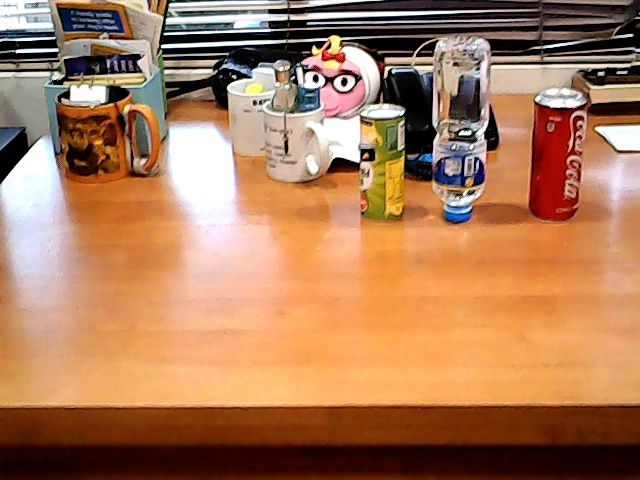Cola: (511, 70, 598, 240)
Pine Juice: (342, 89, 417, 236)
Summit Water: (420, 21, 500, 240)
